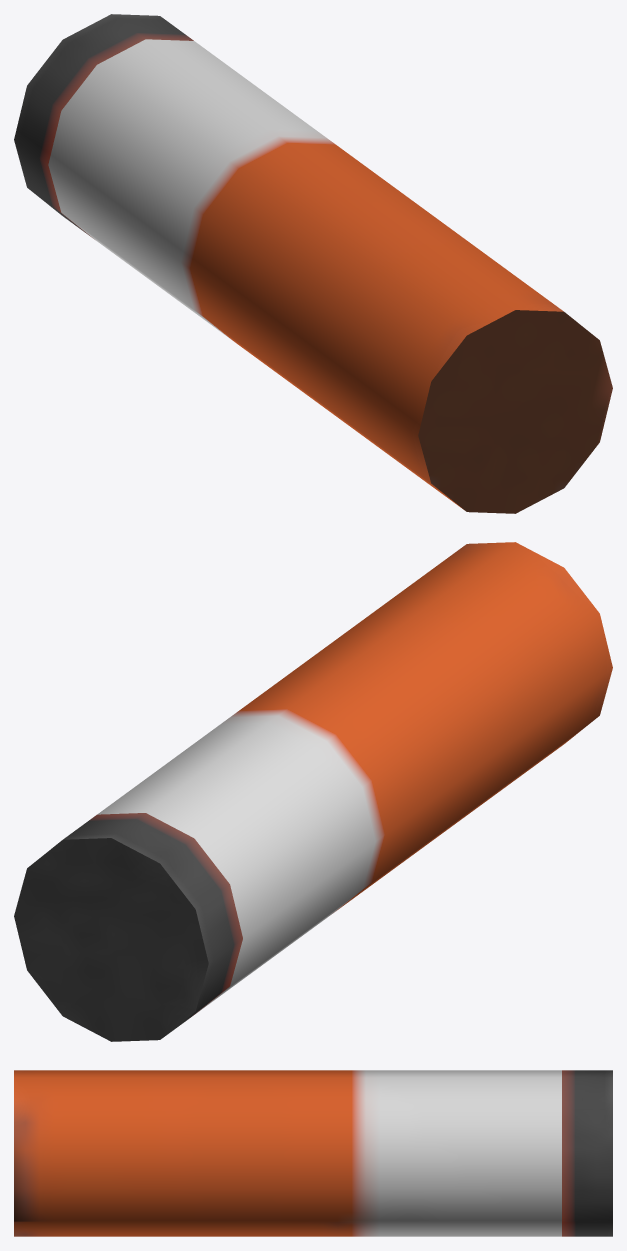
File: Cigarette_3.fbx
3 renders of one model, top to bottom at view 1: azimuth 30°, elevation 25°; view 2: azimuth 150°, elevation 25°; view 3: azimuth 270°, elevation 25°, orthographic. The views are drawn at different scales.
Parts seen in each view (by area): view 1: Cigarette_3; view 2: Cigarette_3; view 3: Cigarette_3.
Part boxes in pixels (x1=…): Cigarette_3: x1=14, y1=14, x2=612, y2=513; Cigarette_3: x1=14, y1=542, x2=612, y2=1041; Cigarette_3: x1=14, y1=1070, x2=612, y2=1236.
Size of the model in its own units: 0.0081 by 0.0081 by 0.0291.
